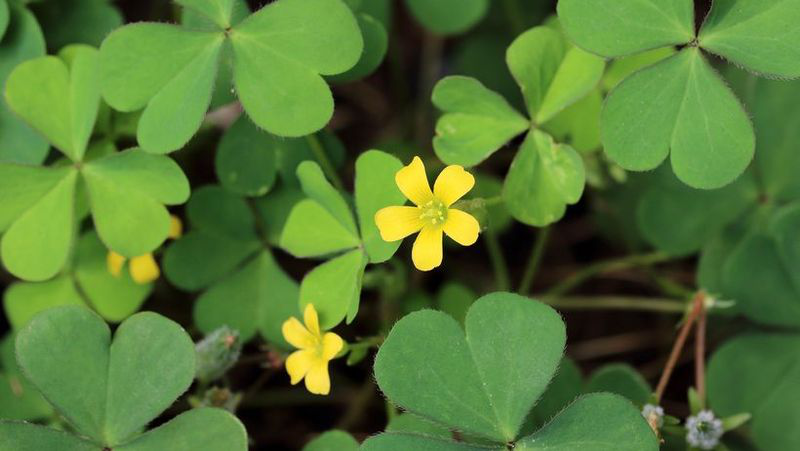clover: (2, 7, 800, 445)
